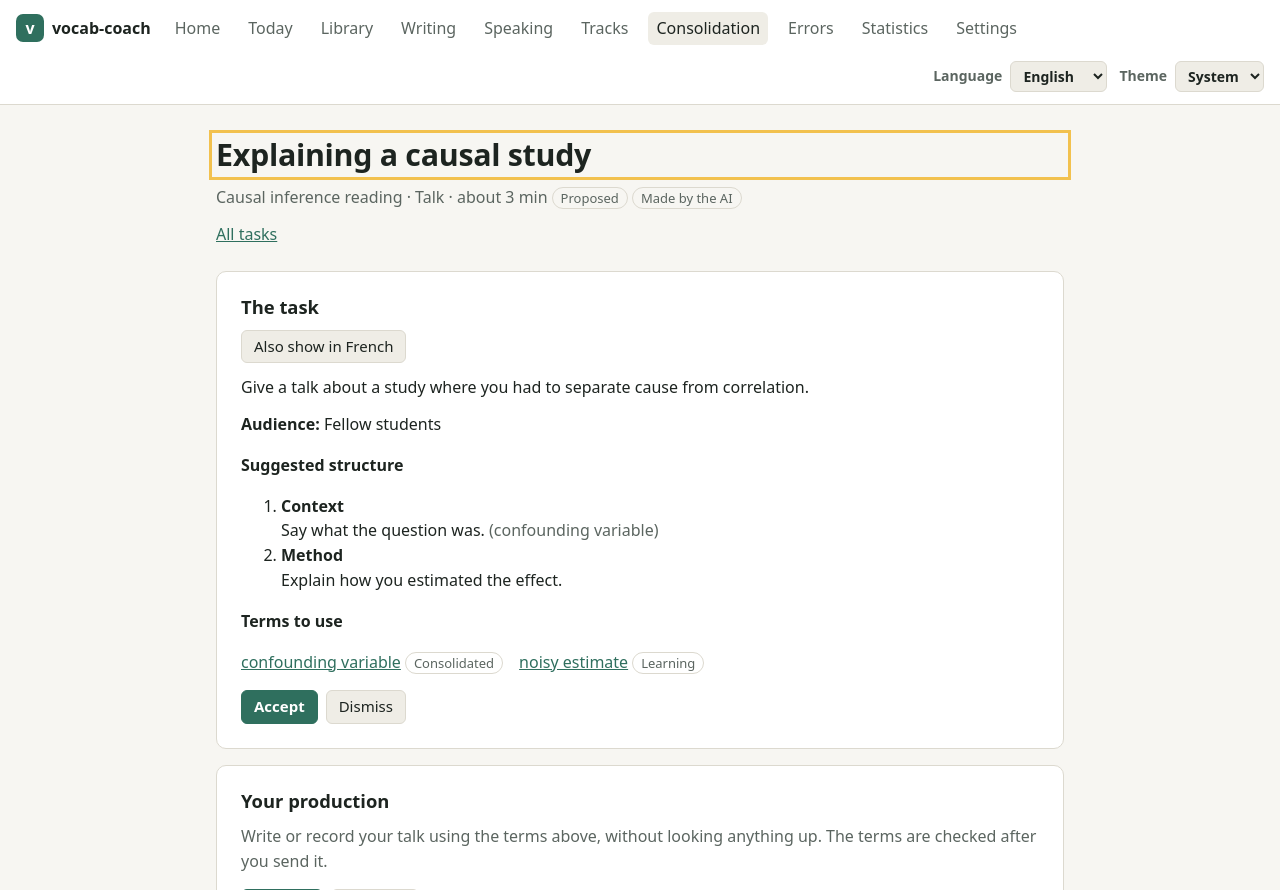
Scenario: Consolidation task page › accepts a proposed task, then offers completion with a confirmation
Click the button "Accept" at (279, 707), box [241,690,318,724]
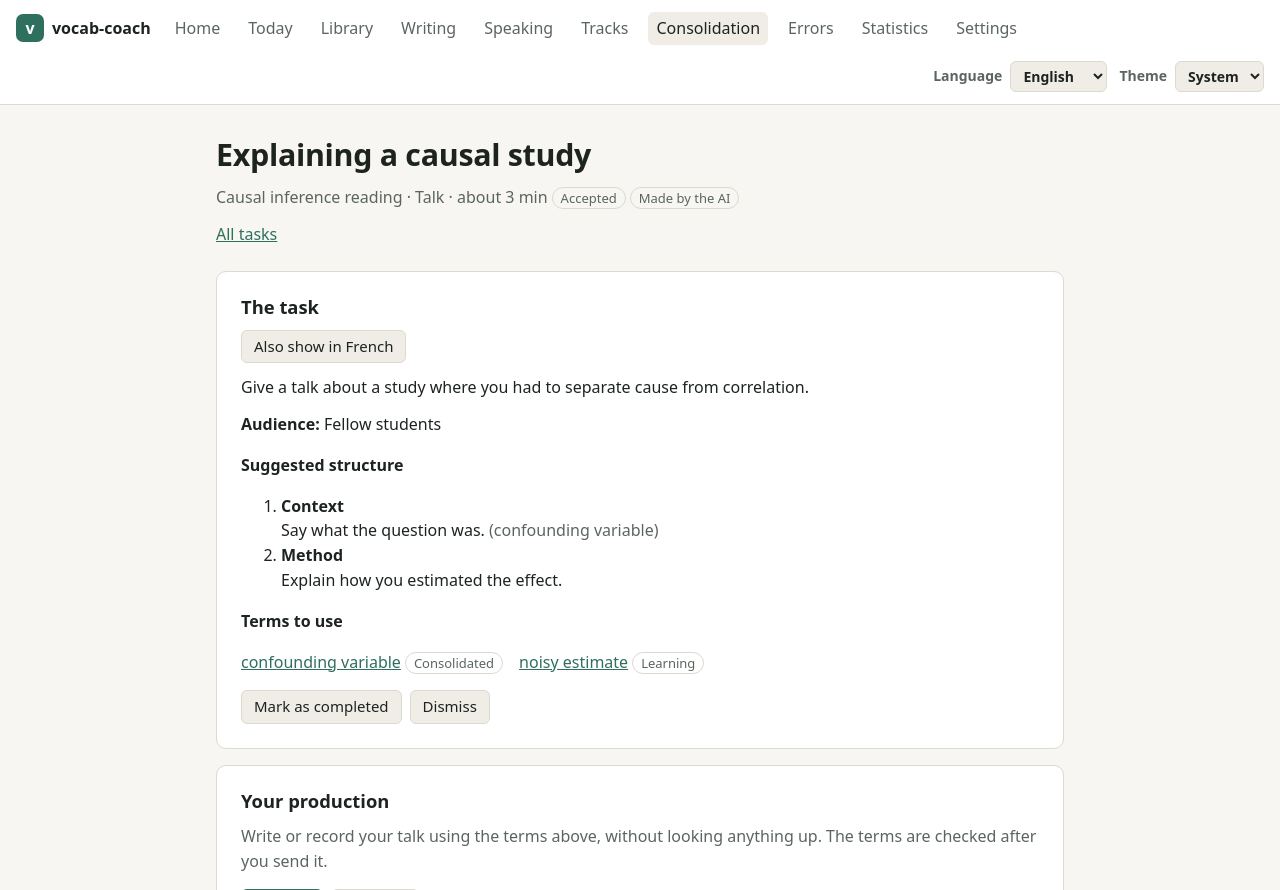
Expected: the button "Mark as completed" is shown
Click the button "Mark as completed" at (321, 707), box [241,690,402,724]
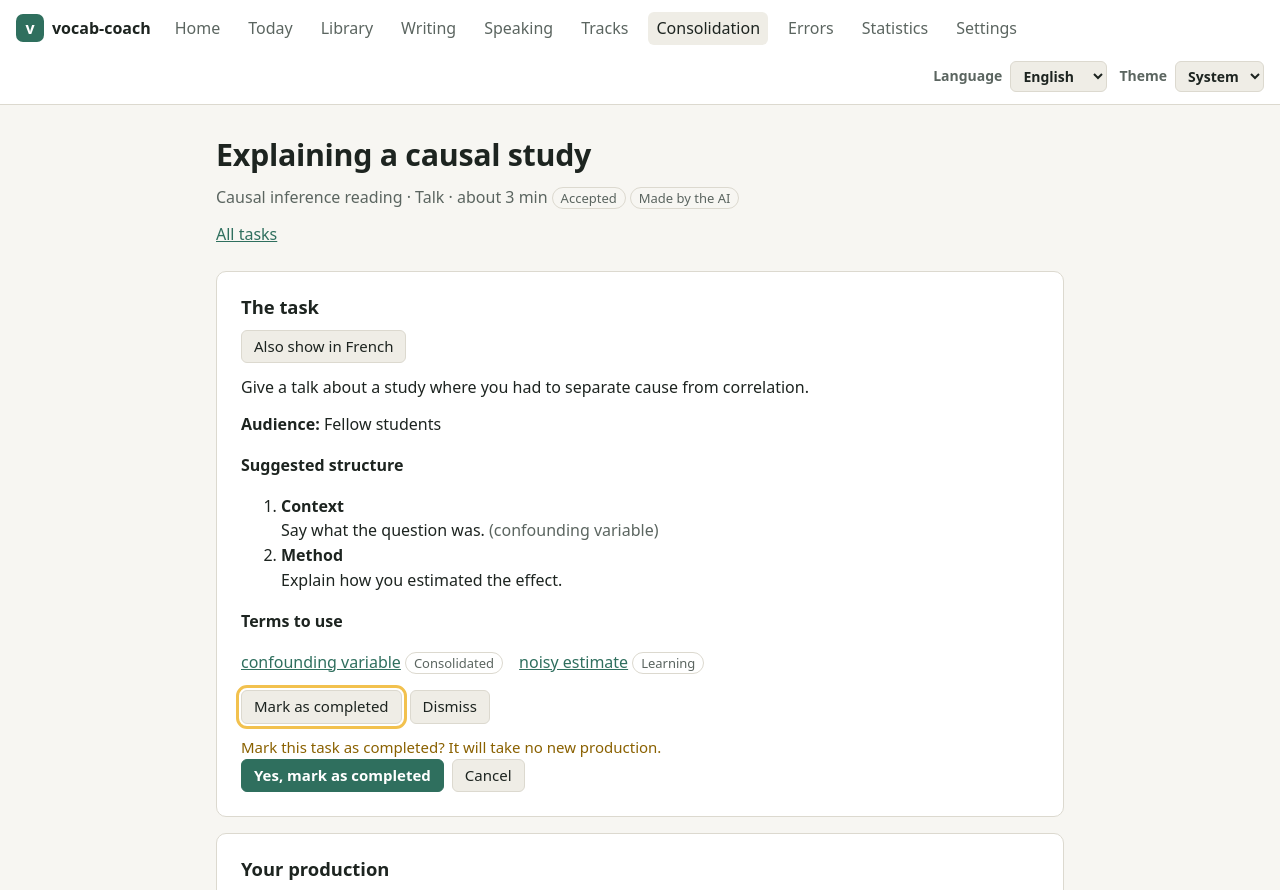
Expected: the dialog is shown, [241,737,661,792]
Click the button "Cancel" at (488, 776), box [452,759,525,792]
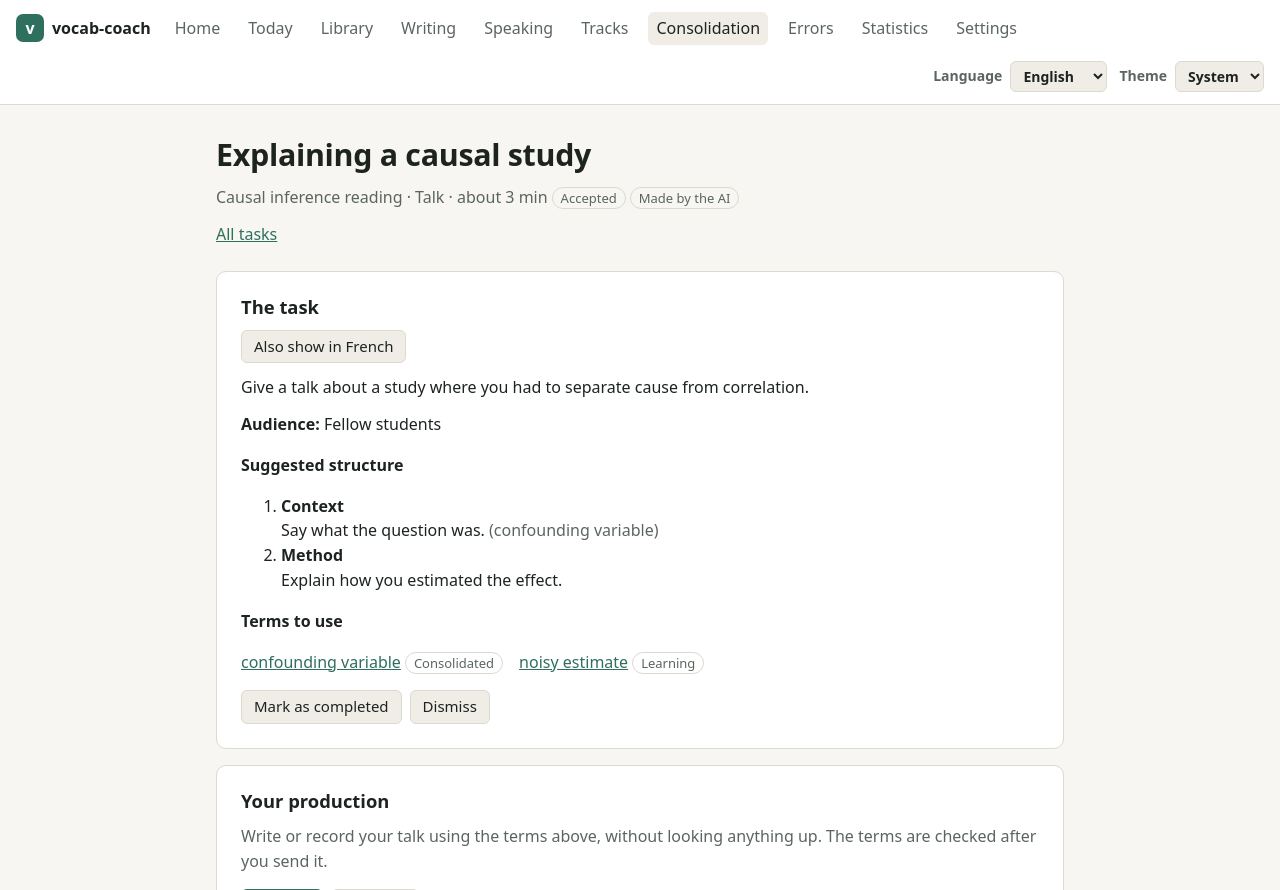
Expected: the dialog is gone
